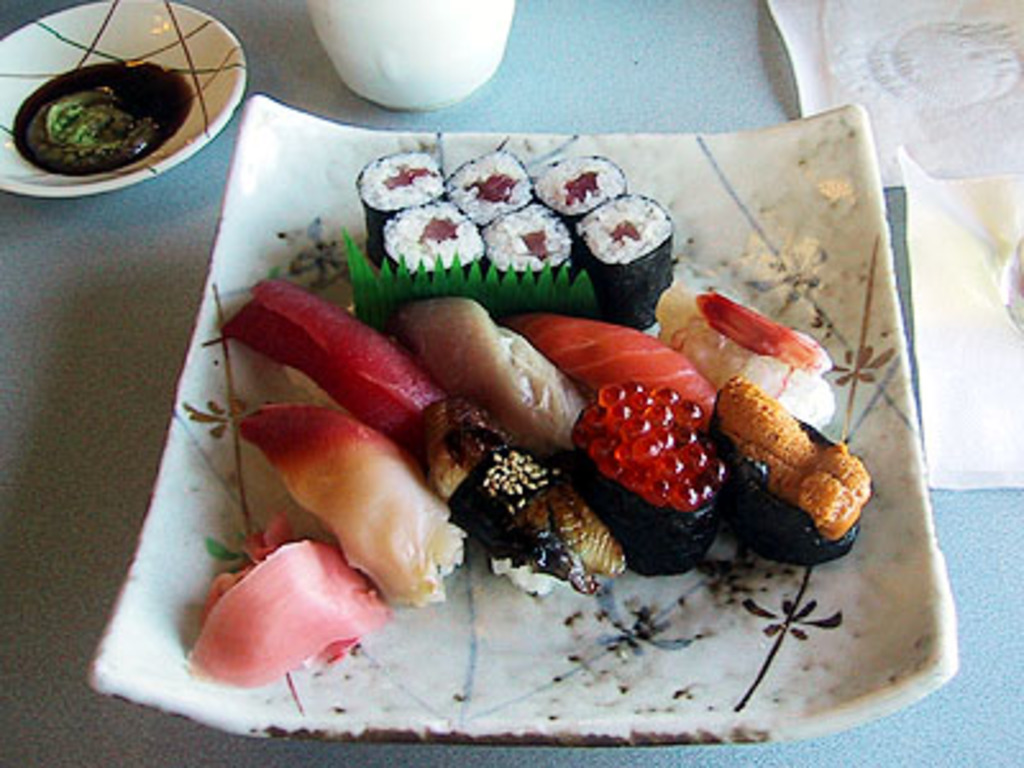sushi: (238, 394, 476, 614), (215, 264, 448, 445), (563, 371, 753, 581), (699, 364, 881, 568), (184, 515, 392, 684), (448, 435, 653, 602), (635, 274, 840, 440), (389, 287, 584, 458), (497, 297, 724, 443), (579, 184, 681, 328), (530, 146, 632, 259), (346, 143, 445, 259), (384, 195, 492, 292), (476, 202, 584, 284), (443, 141, 532, 225)
